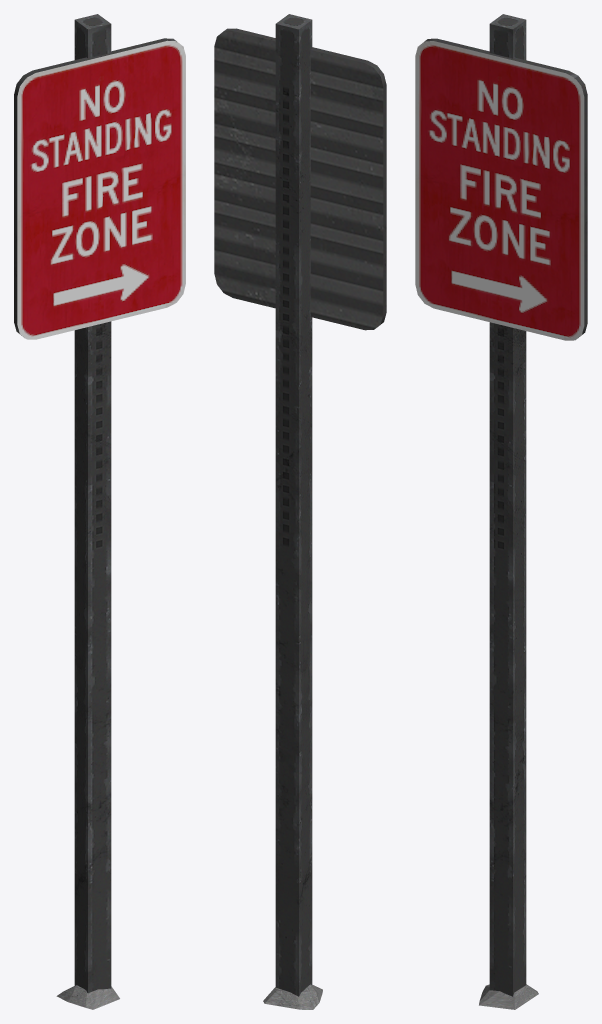
Rendered from Road_Sign_04.fbx.
3 renders of one model, left to right at view 1: azimuth 30°, elevation 25°; view 2: azimuth 150°, elevation 25°; view 3: azimuth 330°, elevation 25°, orthographic.
Visible parts, largest first — view 1: Road_Sign_04; view 2: Road_Sign_04; view 3: Road_Sign_04.
Boxes of the visible parts, bbox=[...] form: Road_Sign_04: bbox=[14, 14, 185, 1009]; Road_Sign_04: bbox=[214, 14, 386, 1009]; Road_Sign_04: bbox=[415, 14, 587, 1009].
Bounding box in the file's own units: 37.25 × 206 × 11.14.
